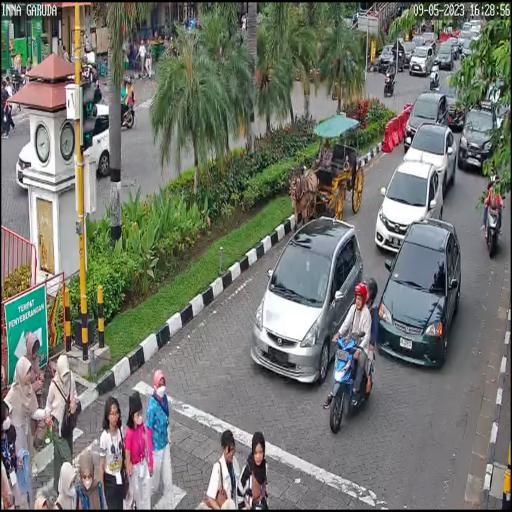mobil: (251, 214, 368, 388), (375, 217, 460, 382), (369, 161, 444, 267), (404, 121, 458, 187), (460, 100, 502, 178), (402, 86, 448, 147)
motor: (330, 321, 376, 431), (479, 202, 507, 258)
